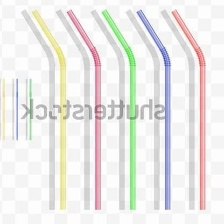drinking_straw: (134, 6, 175, 213), (98, 6, 139, 212), (63, 7, 104, 212), (28, 7, 69, 212), (169, 7, 209, 213)
